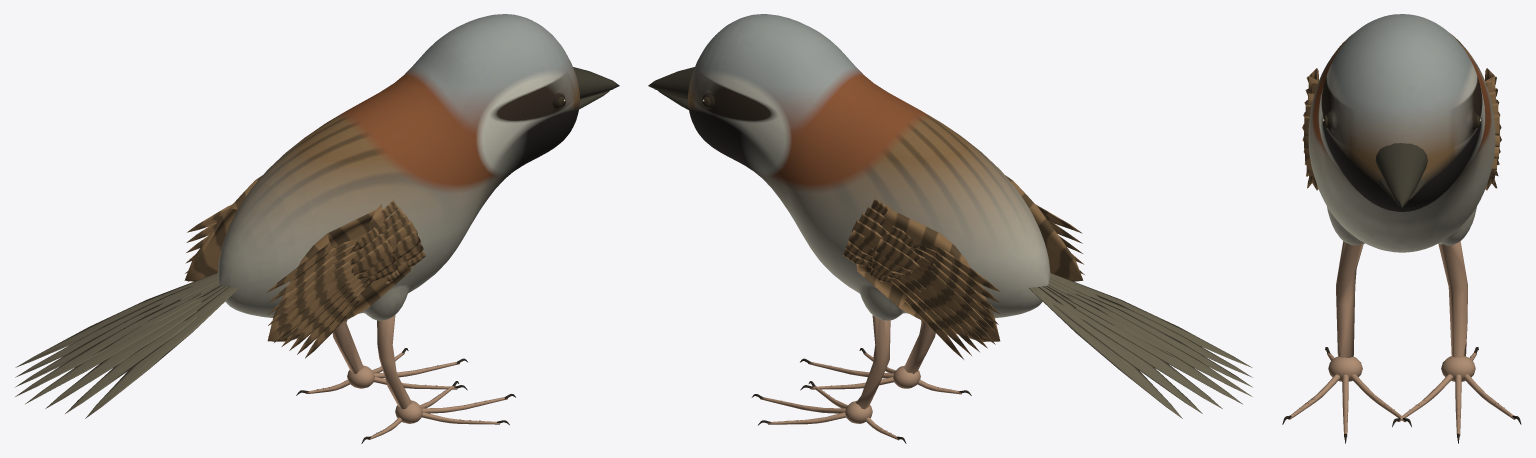
The model's file is sparrow.glb.
The picture shows the model from 3 angles, left to right: view 1: azimuth 30°, elevation 25°; view 2: azimuth 150°, elevation 25°; view 3: azimuth 270°, elevation 25°; orthographic projection. The views are drawn at different scales.
Visible parts, largest first — view 1: BirdBody, WingRight, WingLeft; view 2: BirdBody, WingLeft, WingRight; view 3: BirdBody, WingRight, WingLeft.
Part boxes in pixels (x1,y1,x2,y2): BirdBody: [15, 14, 619, 443]; WingRight: [266, 200, 425, 358]; WingLeft: [184, 175, 262, 281]; BirdBody: [648, 14, 1252, 443]; WingLeft: [843, 198, 1000, 359]; WingRight: [1005, 175, 1084, 281]; BirdBody: [1282, 14, 1521, 443]; WingRight: [1302, 68, 1318, 190]; WingLeft: [1485, 68, 1501, 190].
Bounding box in the file's own units: 0.1586 × 0.0905 × 0.0466.
11 materials, 11 textured.
